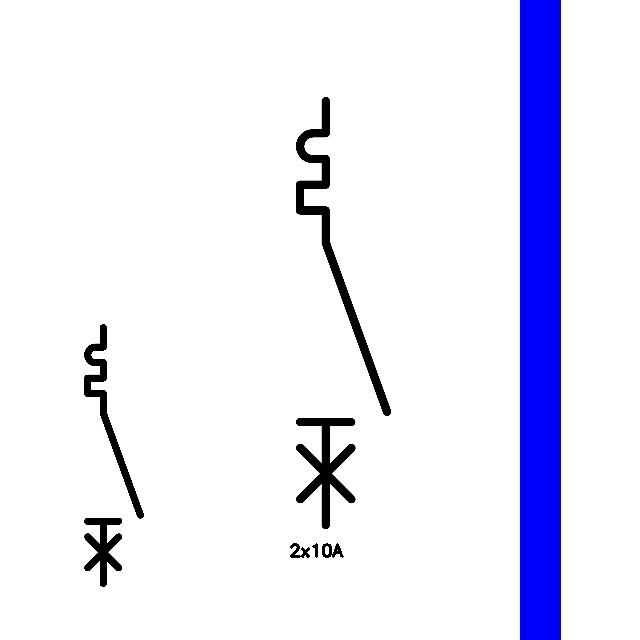interruptor_termomagnetico: (289, 90, 398, 536), (81, 321, 147, 590)
